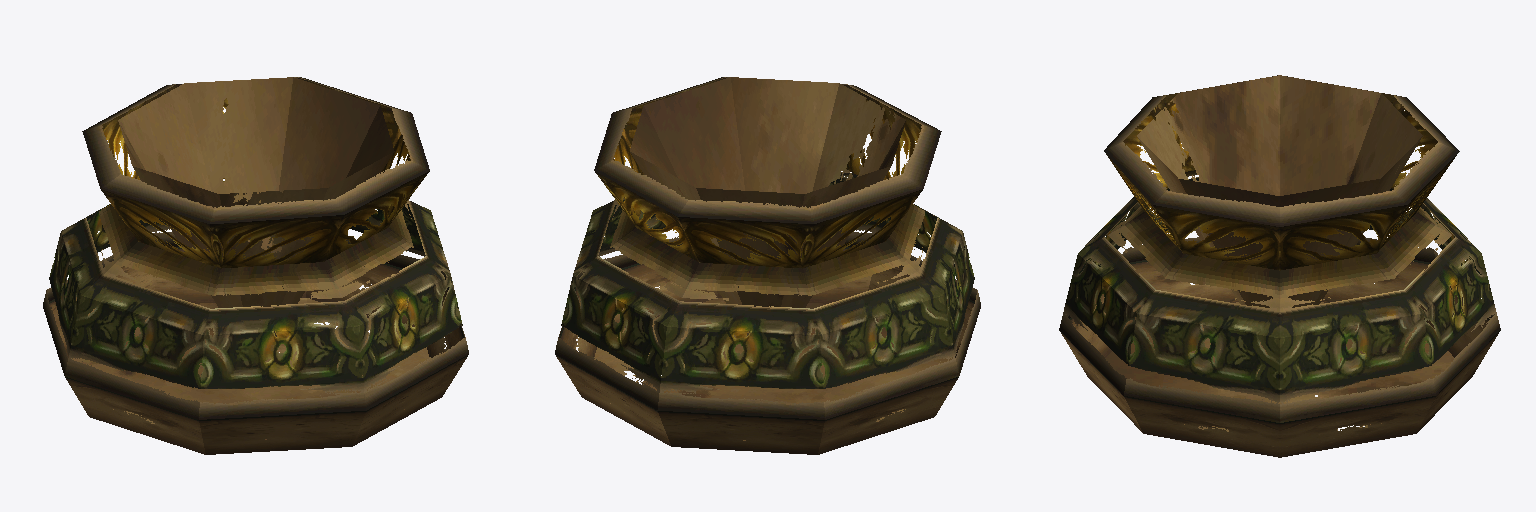
The picture shows the model from 3 angles: view 1: azimuth 30°, elevation 25°; view 2: azimuth 150°, elevation 25°; view 3: azimuth 270°, elevation 25°; orthographic projection.
Visible parts, largest first — view 1: ul_pot03; view 2: ul_pot03; view 3: ul_pot03.
Boxes of the visible parts, x1,y1,x2,y2 form: ul_pot03: [43, 77, 468, 454]; ul_pot03: [555, 77, 980, 454]; ul_pot03: [1059, 75, 1500, 457].
Size of the model in its own units: 2.55 by 1.53 by 2.55.
Materials: 1 (1 with a texture image).